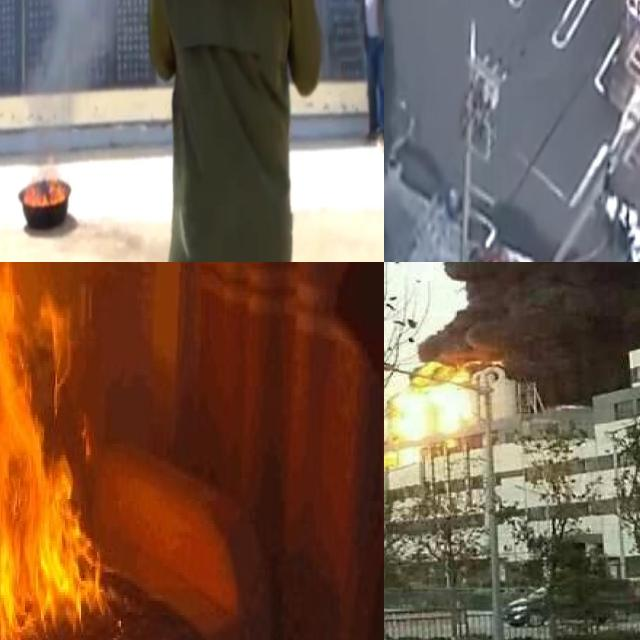fire: (0, 262, 112, 640), (384, 359, 470, 462), (21, 169, 70, 214)
smoke: (418, 262, 640, 403), (22, 0, 128, 166)
